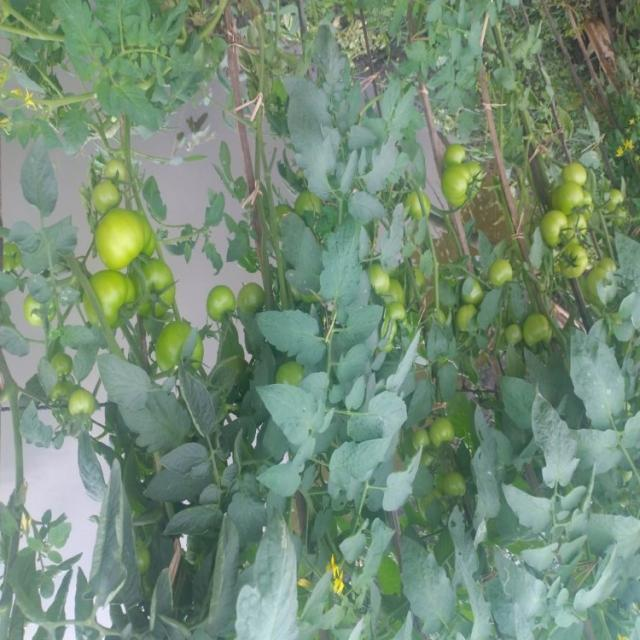tomato: (78, 270, 138, 331), (97, 210, 155, 265), (157, 318, 201, 366), (145, 263, 179, 325), (22, 295, 60, 343), (551, 174, 588, 219), (539, 210, 572, 260), (209, 280, 241, 329), (447, 167, 488, 204), (523, 311, 551, 347), (382, 297, 407, 337), (71, 381, 96, 419), (563, 244, 587, 281), (92, 181, 116, 218), (298, 191, 319, 230), (457, 307, 483, 333), (406, 188, 430, 215), (366, 266, 386, 295), (426, 418, 444, 450), (570, 162, 590, 189), (245, 283, 264, 311), (59, 352, 77, 381), (491, 263, 523, 279), (105, 159, 127, 181), (465, 273, 482, 301), (276, 358, 291, 383), (450, 475, 466, 498), (447, 140, 464, 161)
